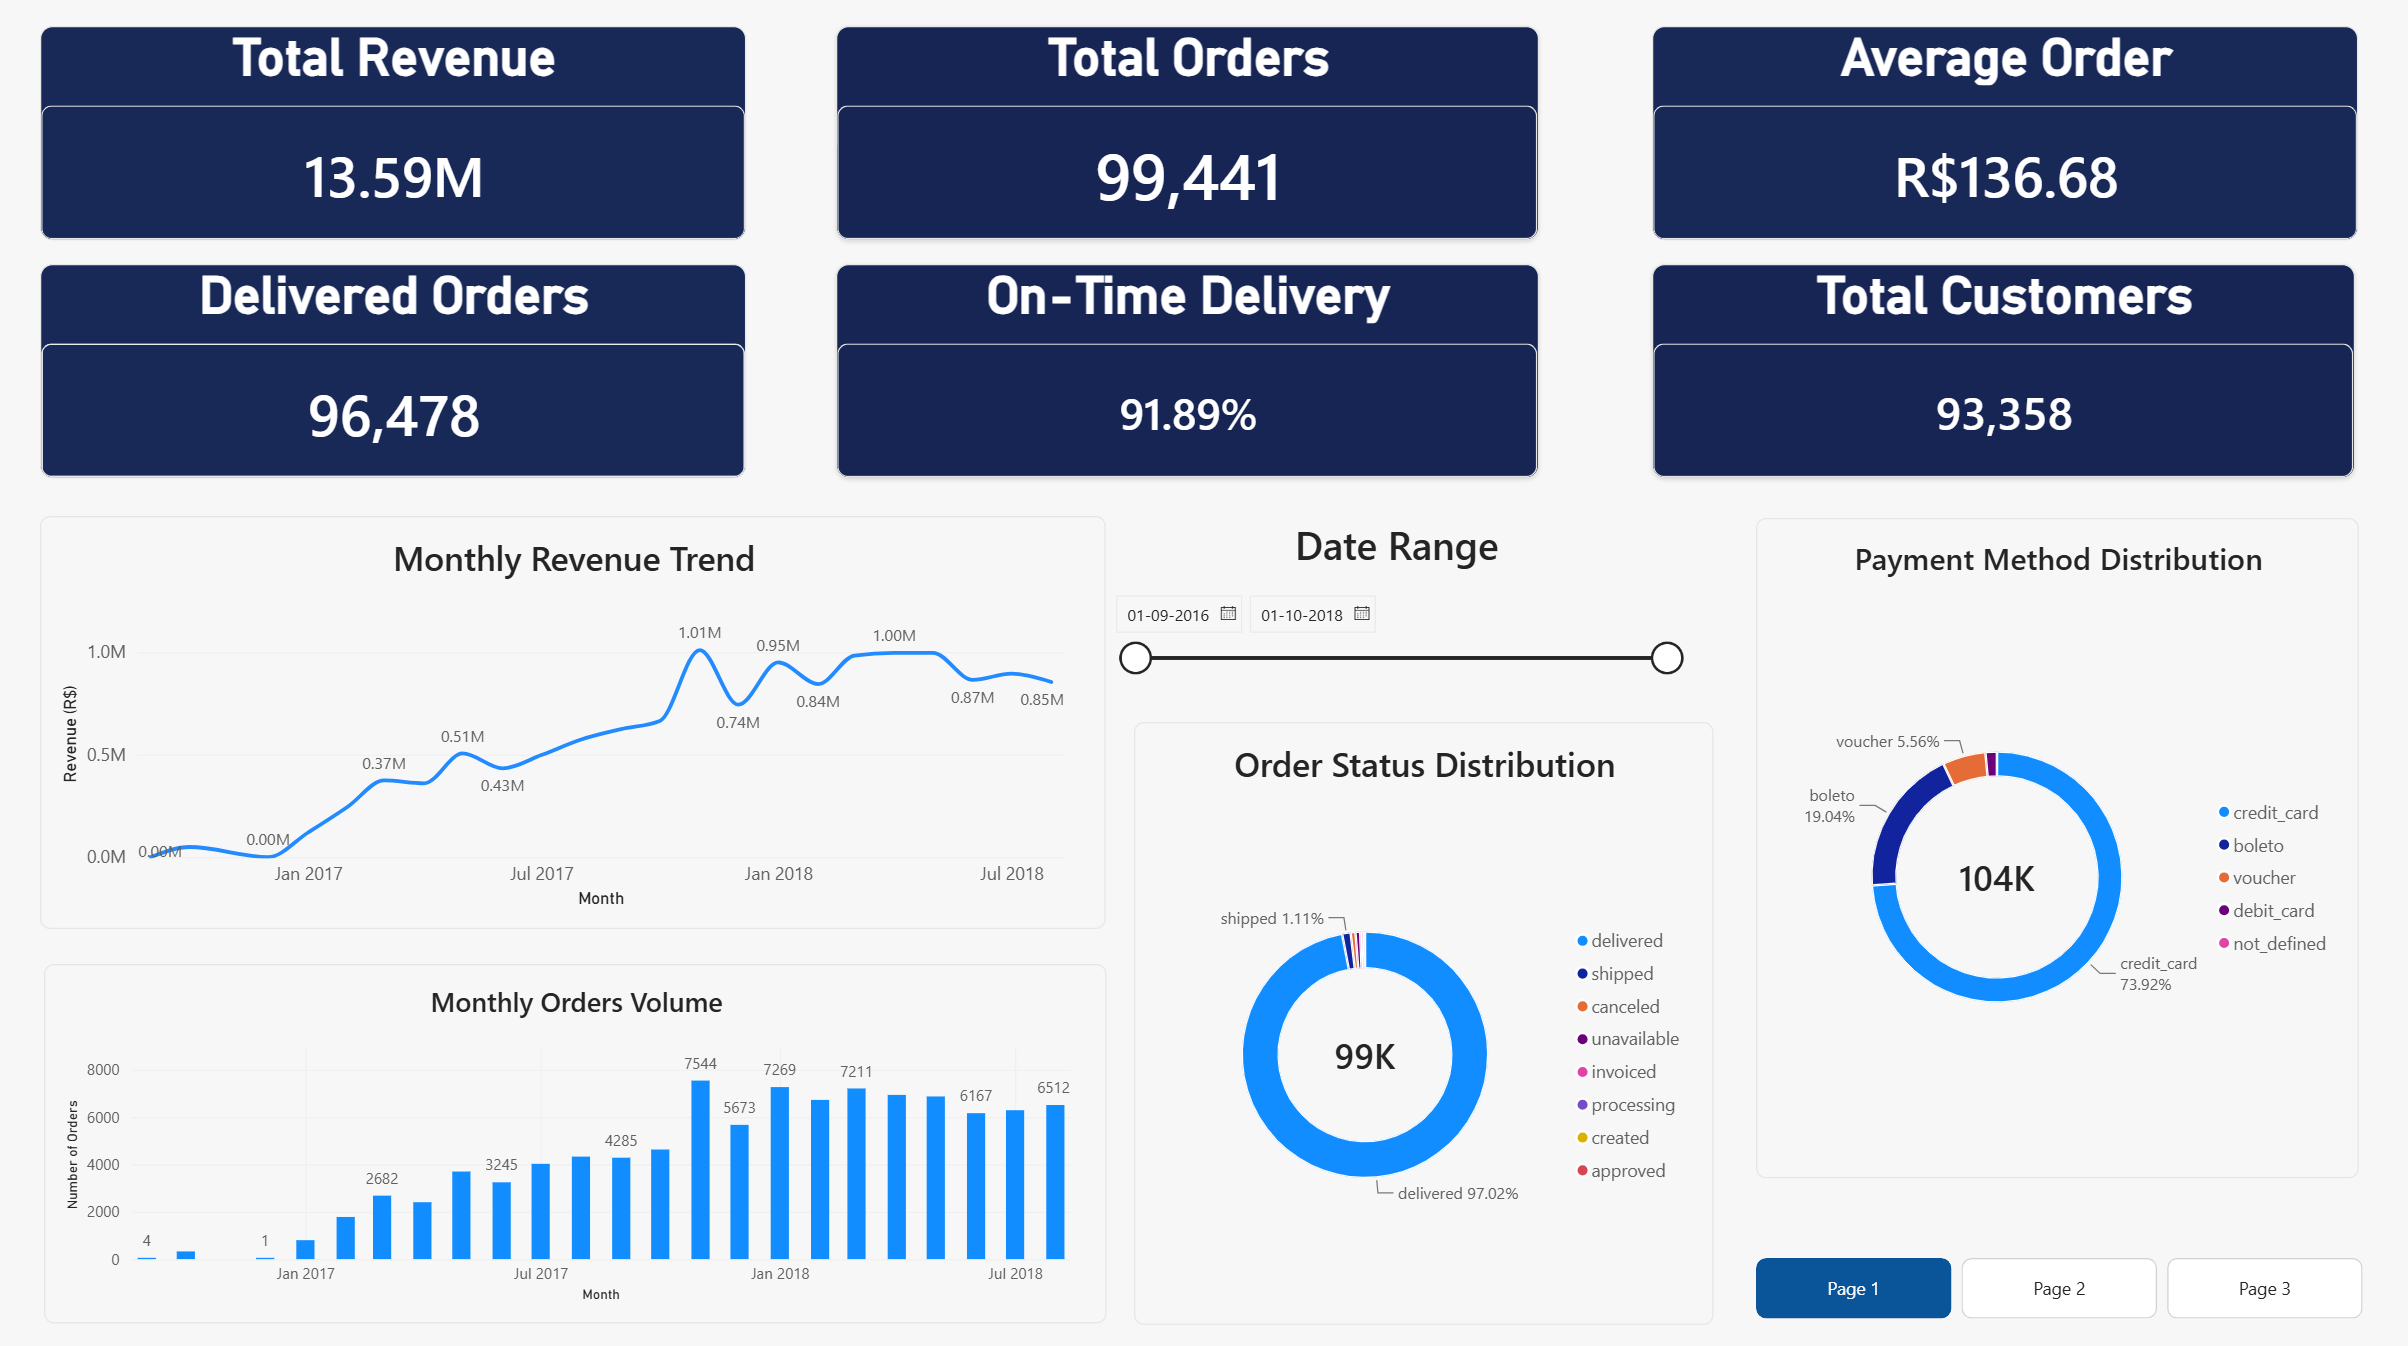

The page's visual inventory and layout, read from the dashboard file:
{"tool":"powerbi","page":{"name":"Page 1","canvas":[1920,1080],"ordinal":0},"visuals":[{"type":"cardVisual","title":"Total Orders","fields":{"Data":["monthly_sales.Total Orders"]},"box":[662.5,32.5,557.5,170],"z":0},{"type":"cardVisual","title":"Total Revenue","fields":{"Data":["monthly_sales.Total Revenue"]},"box":[32.5,32.5,560,170],"z":1000},{"type":"cardVisual","title":"Average Order ","fields":{"Data":["monthly_sales.Average Order Value"]},"box":[1310,32.5,560,170],"z":2000},{"type":"cardVisual","title":"Delivered Orders","fields":{"Data":["monthly_sales.Delivered Orders"]},"box":[32.5,220,560,170],"z":3000},{"type":"lineChart","title":"Monthly Revenue Trend","fields":{"Category":["monthly_sales.sales_month"],"Y":["monthly_sales.Total Revenue"]},"box":[32.5,420,845,327.5],"z":4000},{"type":"donutChart","title":"Order Status Distribution","fields":{"Category":["order_status.order_status"],"Y":["Sum(order_status.total_orders)"]},"box":[899.8,583.5,459.3,478.1],"z":5000},{"type":"clusteredColumnChart","title":"Monthly Orders Volume","fields":{"Category":["monthly_orders.order_month"],"Y":["Sum(monthly_orders.total_orders)"]},"box":[35,775,842.5,285],"z":6000},{"type":"donutChart","title":"Payment Method Distribution","fields":{"Category":["payment_methods.payment_type"],"Y":["Sum(payment_methods.payment_records)"]},"box":[1392.9,421.6,478.1,523.3],"z":7000},{"type":"cardVisual","title":"Total Customers","fields":{"Data":["_Measures.Total Customers"]},"box":[1310,220,557.5,170],"z":8000},{"type":"cardVisual","title":"On-Time Delivery","fields":{"Data":["delivery_performance.On-Time Delivery %"]},"box":[662.5,220,557.5,170],"z":9000},{"type":"slicer","title":"Date Range","fields":{"Values":["monthly_sales.sales_month"]},"box":[877.2,421.6,461,150],"z":10000},{"type":"pageNavigator","box":[1392.9,1008.9,481.9,48.9],"z":11000}]}

Visuals, with their boxes in screenshot pixels (x1, y1, x2, y2), scaled from the page's 1920x1080 canvas onto the 2408x1346 screenshot:
"Total Orders" cardVisual: box=[831, 41, 1530, 252]
"Total Revenue" cardVisual: box=[41, 41, 743, 252]
"Average Order " cardVisual: box=[1643, 41, 2345, 252]
"Delivered Orders" cardVisual: box=[41, 274, 743, 486]
"Monthly Revenue Trend" lineChart: box=[41, 523, 1101, 932]
"Order Status Distribution" donutChart: box=[1128, 727, 1705, 1323]
"Monthly Orders Volume" clusteredColumnChart: box=[44, 966, 1101, 1321]
"Payment Method Distribution" donutChart: box=[1747, 525, 2347, 1178]
"Total Customers" cardVisual: box=[1643, 274, 2342, 486]
"On-Time Delivery" cardVisual: box=[831, 274, 1530, 486]
"Date Range" slicer: box=[1100, 525, 1678, 712]
pageNavigator: box=[1747, 1257, 2351, 1318]
